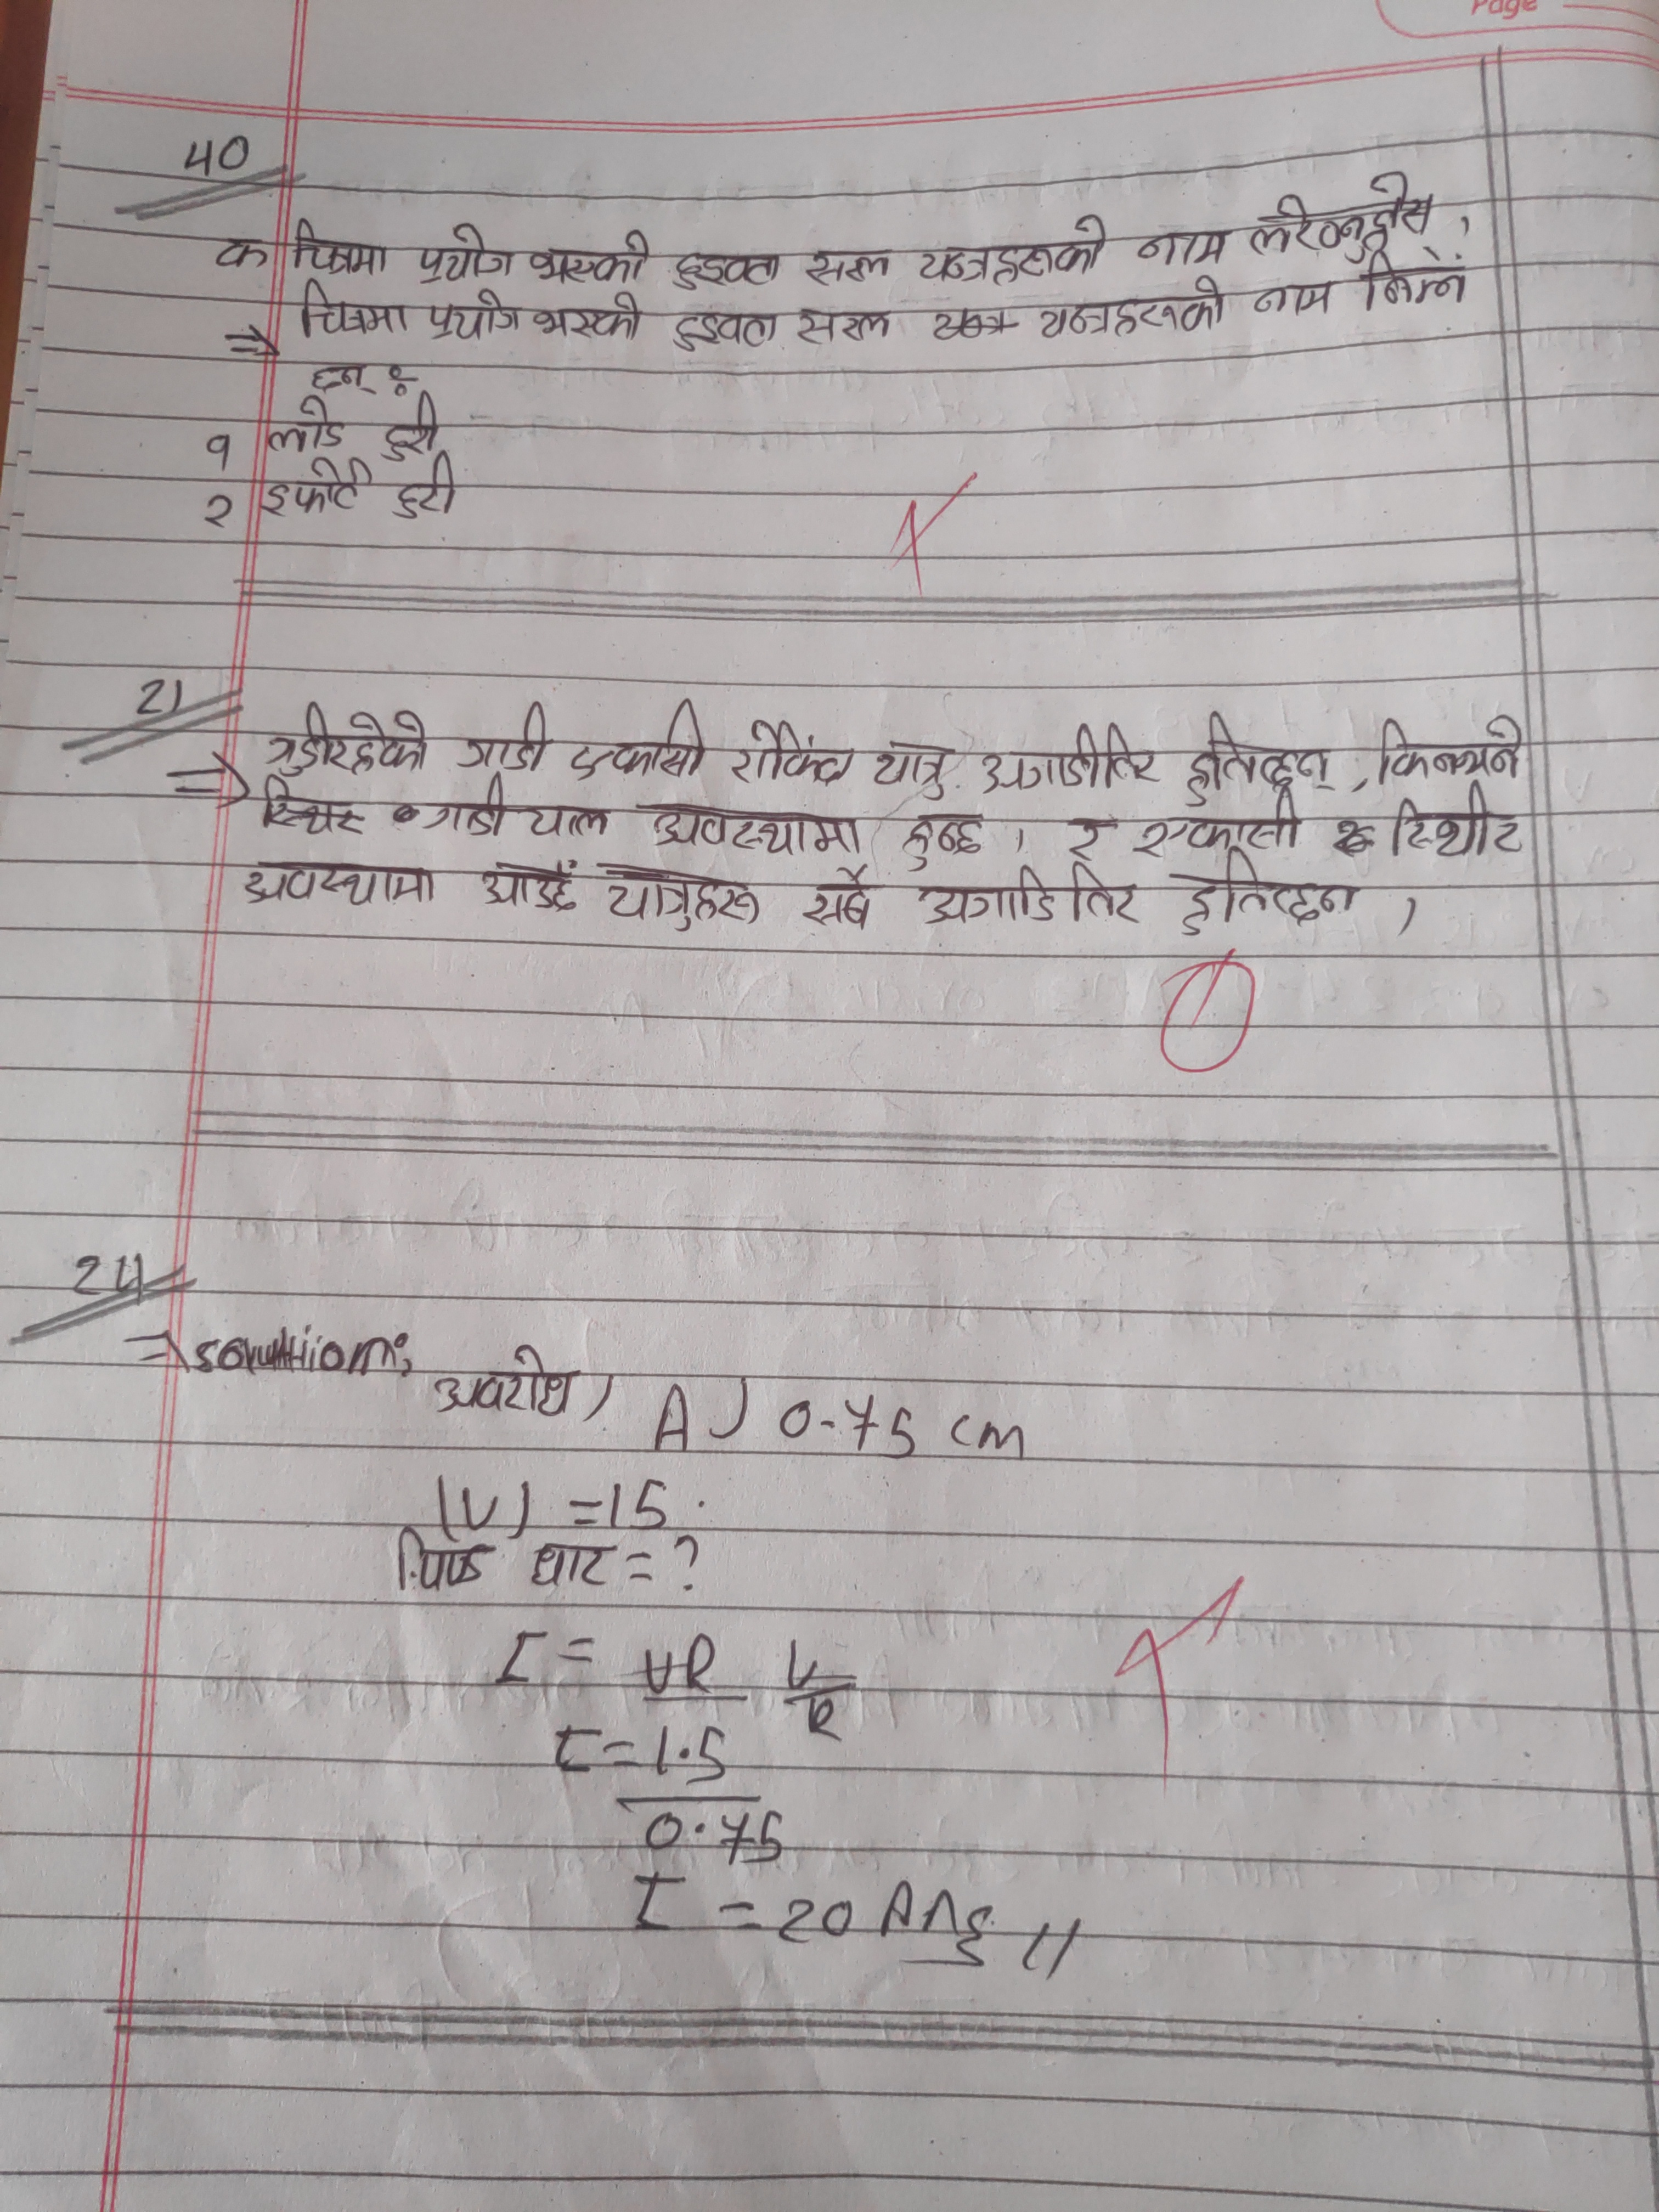text: (1246, 171, 1441, 261), (911, 860, 1147, 935), (1171, 852, 1363, 935), (1183, 711, 1344, 805), (915, 212, 1114, 286), (978, 723, 1166, 798), (263, 700, 430, 780), (1030, 275, 1234, 338), (599, 860, 763, 937), (647, 798, 863, 855), (432, 1346, 587, 1425), (1370, 709, 1523, 787), (1134, 792, 1305, 860), (1387, 787, 1534, 862), (237, 857, 441, 909), (725, 718, 856, 791), (382, 1524, 498, 1597), (525, 228, 655, 291), (606, 700, 708, 780), (261, 458, 378, 524), (1356, 249, 1473, 312), (296, 282, 415, 341), (291, 214, 389, 286), (416, 221, 519, 287), (460, 700, 558, 770), (477, 855, 584, 916), (864, 735, 957, 803), (430, 770, 514, 841), (523, 1538, 617, 1599), (666, 251, 784, 298), (530, 293, 643, 341), (667, 308, 784, 355), (429, 287, 523, 341), (901, 810, 985, 869), (519, 792, 615, 841), (805, 864, 875, 930), (380, 392, 444, 463), (795, 305, 892, 352), (385, 465, 462, 524), (803, 244, 894, 291), (1253, 273, 1340, 320), (272, 402, 350, 455), (1140, 230, 1229, 272), (310, 359, 378, 401), (1068, 815, 1107, 864)
